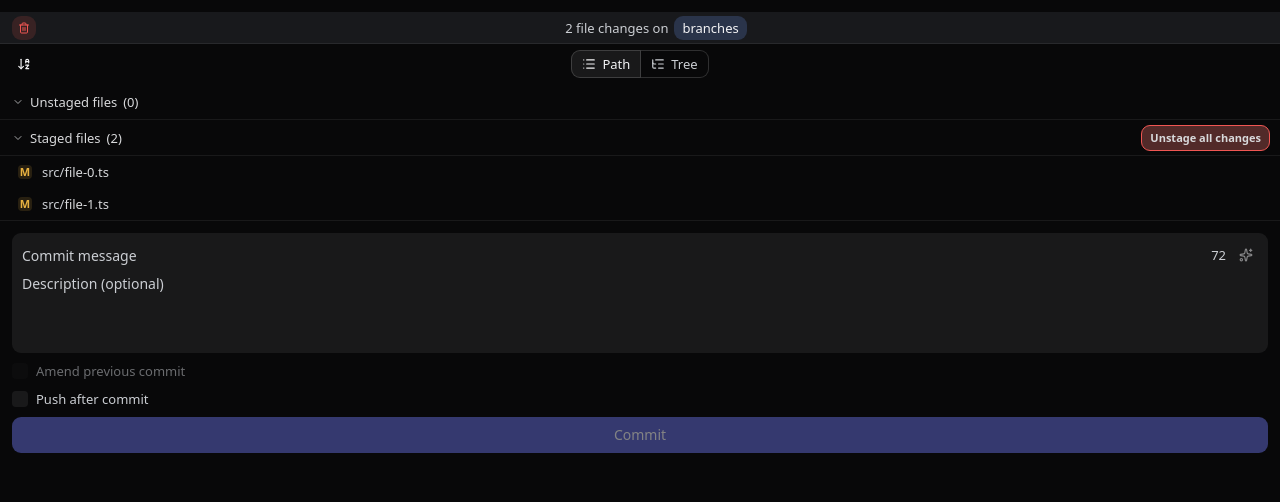
Test case: the header of the working tree panel › a click on a directory expands it and collapses it again
Click the radio button labelled "Tree": (675, 64) [641,50,709,78]
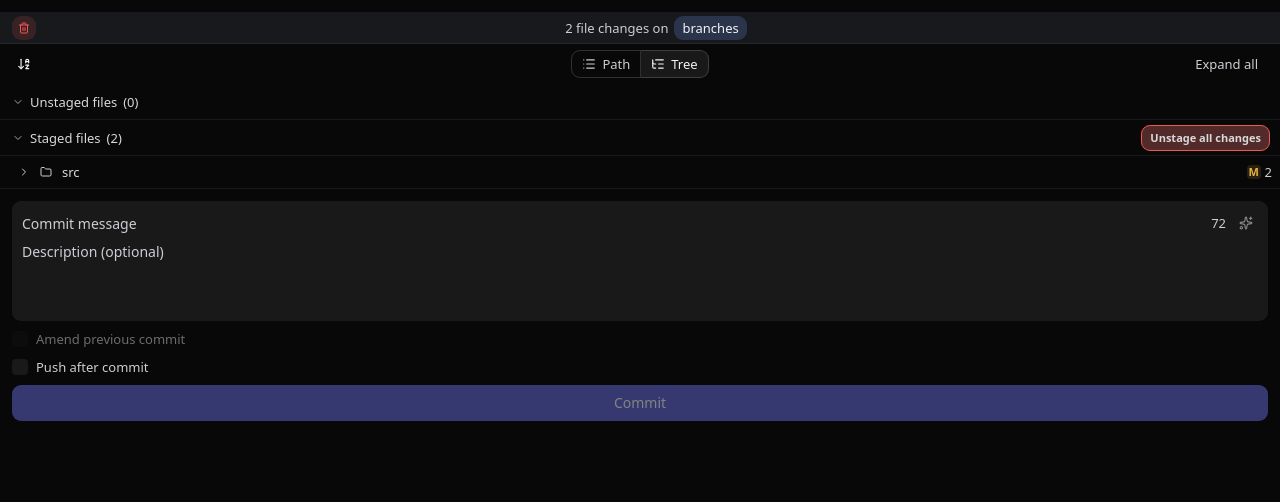
Click the text "src": (71, 172) [62,162,80,182]
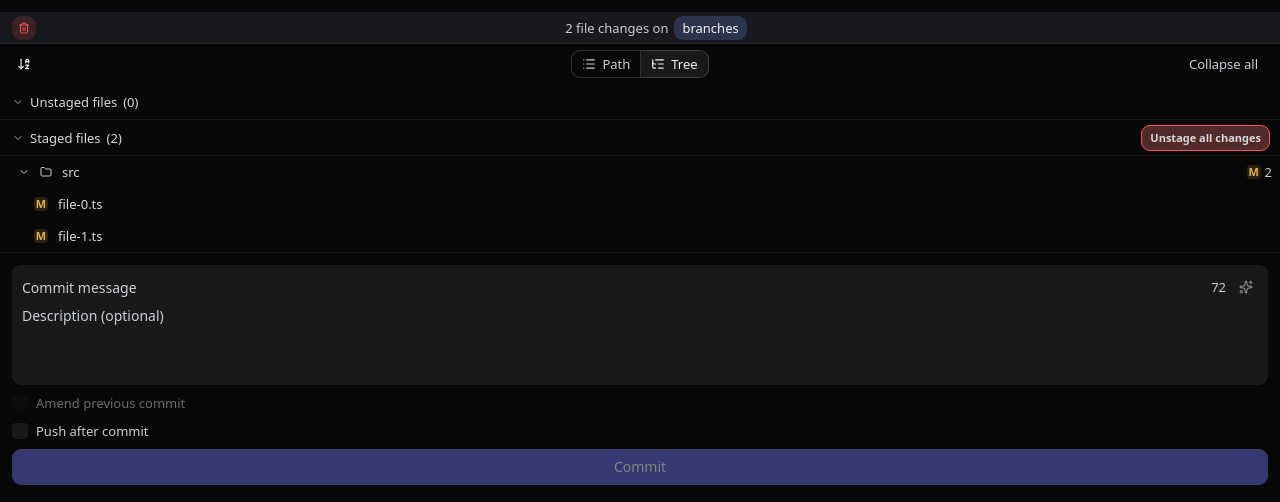
Check: the text "file-0.ts" is shown, box [58,194,102,214]
Click the text "src": (71, 172) [62,162,80,182]
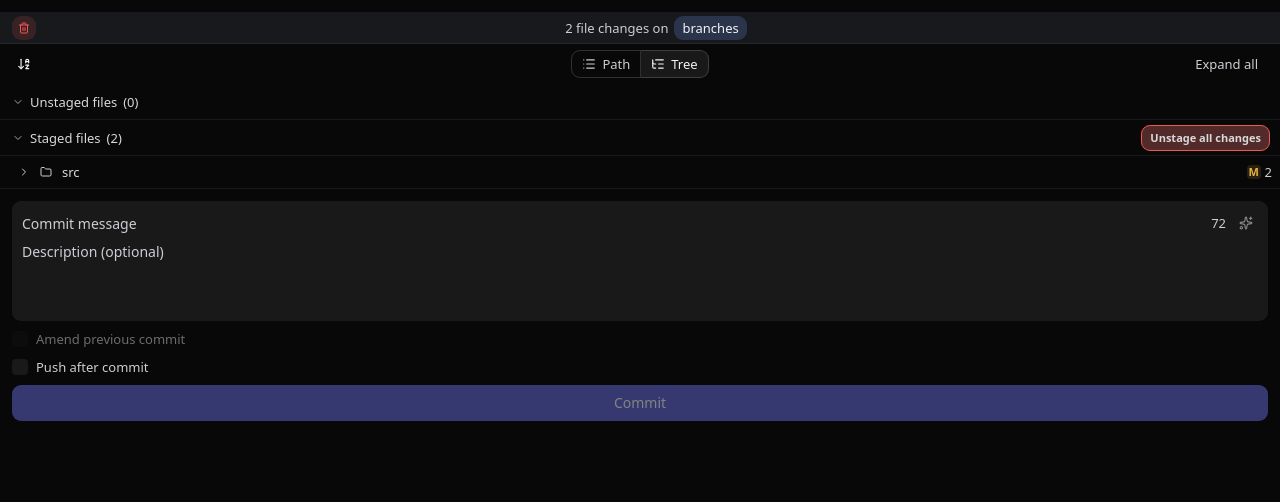
Check: the option "file-0.ts" is gone
